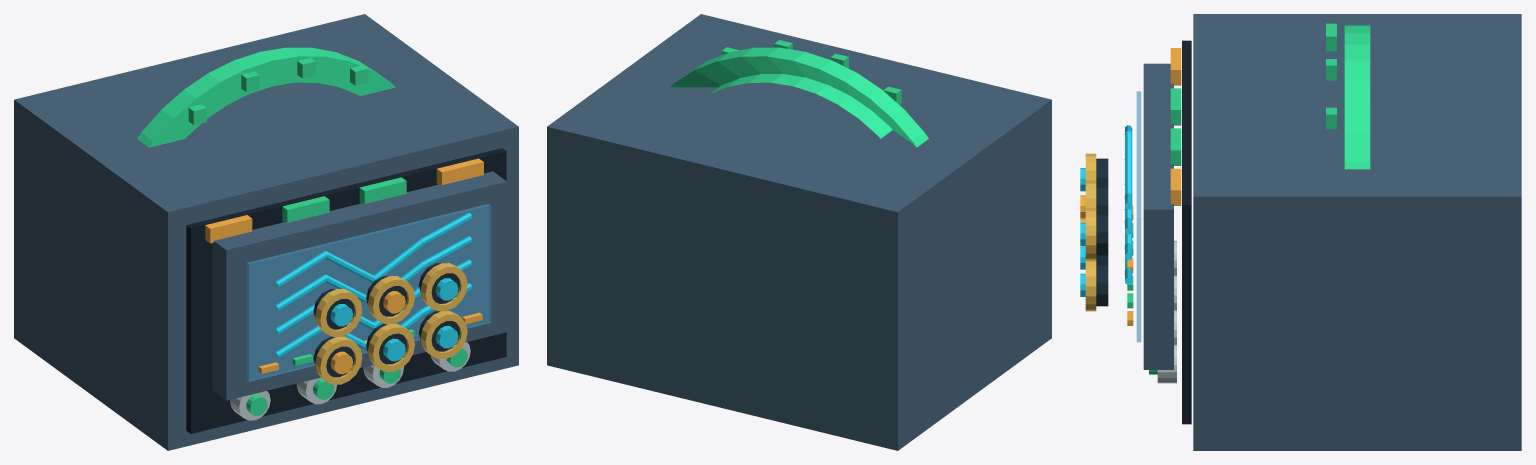
File: 20_L81_SingleBitCorrectionEngine.fbx
3 views of the same model, side by side, from view 1: azimuth 30°, elevation 25°; view 2: azimuth 150°, elevation 25°; view 3: azimuth 270°, elevation 25° (orthographic). The views are drawn at different scales.
Visible parts, largest first — view 1: SingleBitCorrectionEngine, SingleBitCorrectionEngine_Part_0051; view 2: SingleBitCorrectionEngine, SingleBitCorrectionEngine_Part_0051; view 3: SingleBitCorrectionEngine, SingleBitCorrectionEngine_Part_0051.
Boxes of the visible parts, <box> form: SingleBitCorrectionEngine: <box>14,14,518,450</box>; SingleBitCorrectionEngine_Part_0051: <box>137,47,395,147</box>; SingleBitCorrectionEngine: <box>547,14,1051,450</box>; SingleBitCorrectionEngine_Part_0051: <box>670,47,928,147</box>; SingleBitCorrectionEngine: <box>1080,14,1521,450</box>; SingleBitCorrectionEngine_Part_0051: <box>1344,25,1370,169</box>.
Bounding box in the file's own units: 100 × 96 × 102.
